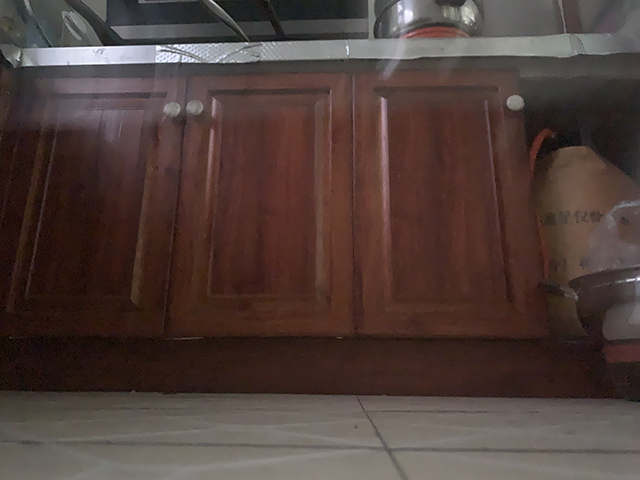cabinet: (2, 63, 513, 396)
